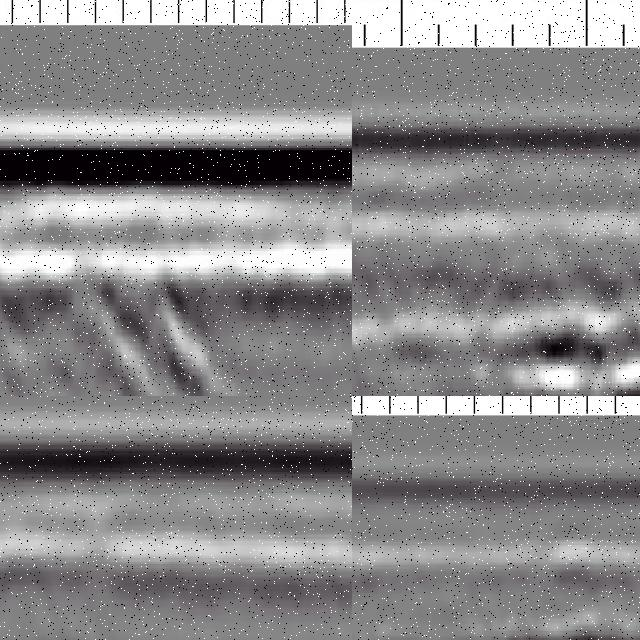loose: (1, 238, 220, 397), (477, 306, 640, 397)
